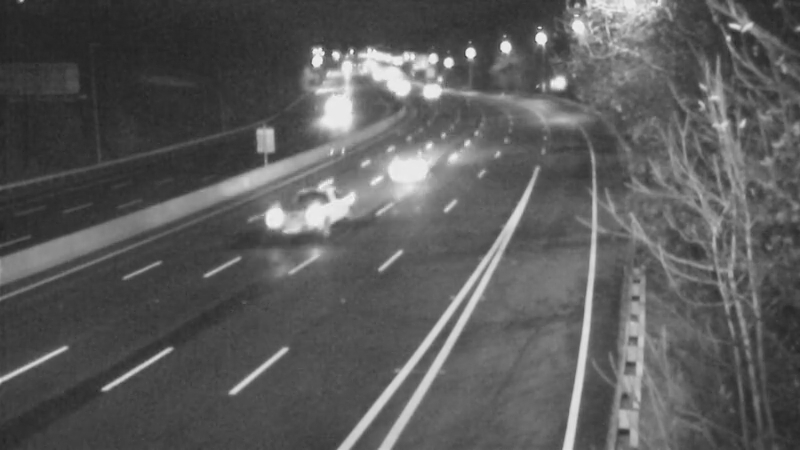vehicle: (374, 129, 454, 209), (257, 176, 337, 256), (376, 59, 426, 109), (405, 68, 455, 118), (302, 92, 352, 142)
